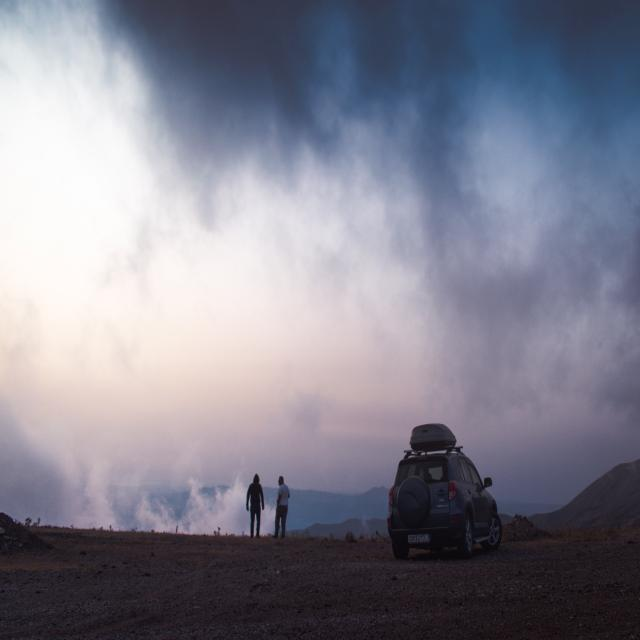adult: (246, 473, 264, 537), (274, 475, 290, 538)
